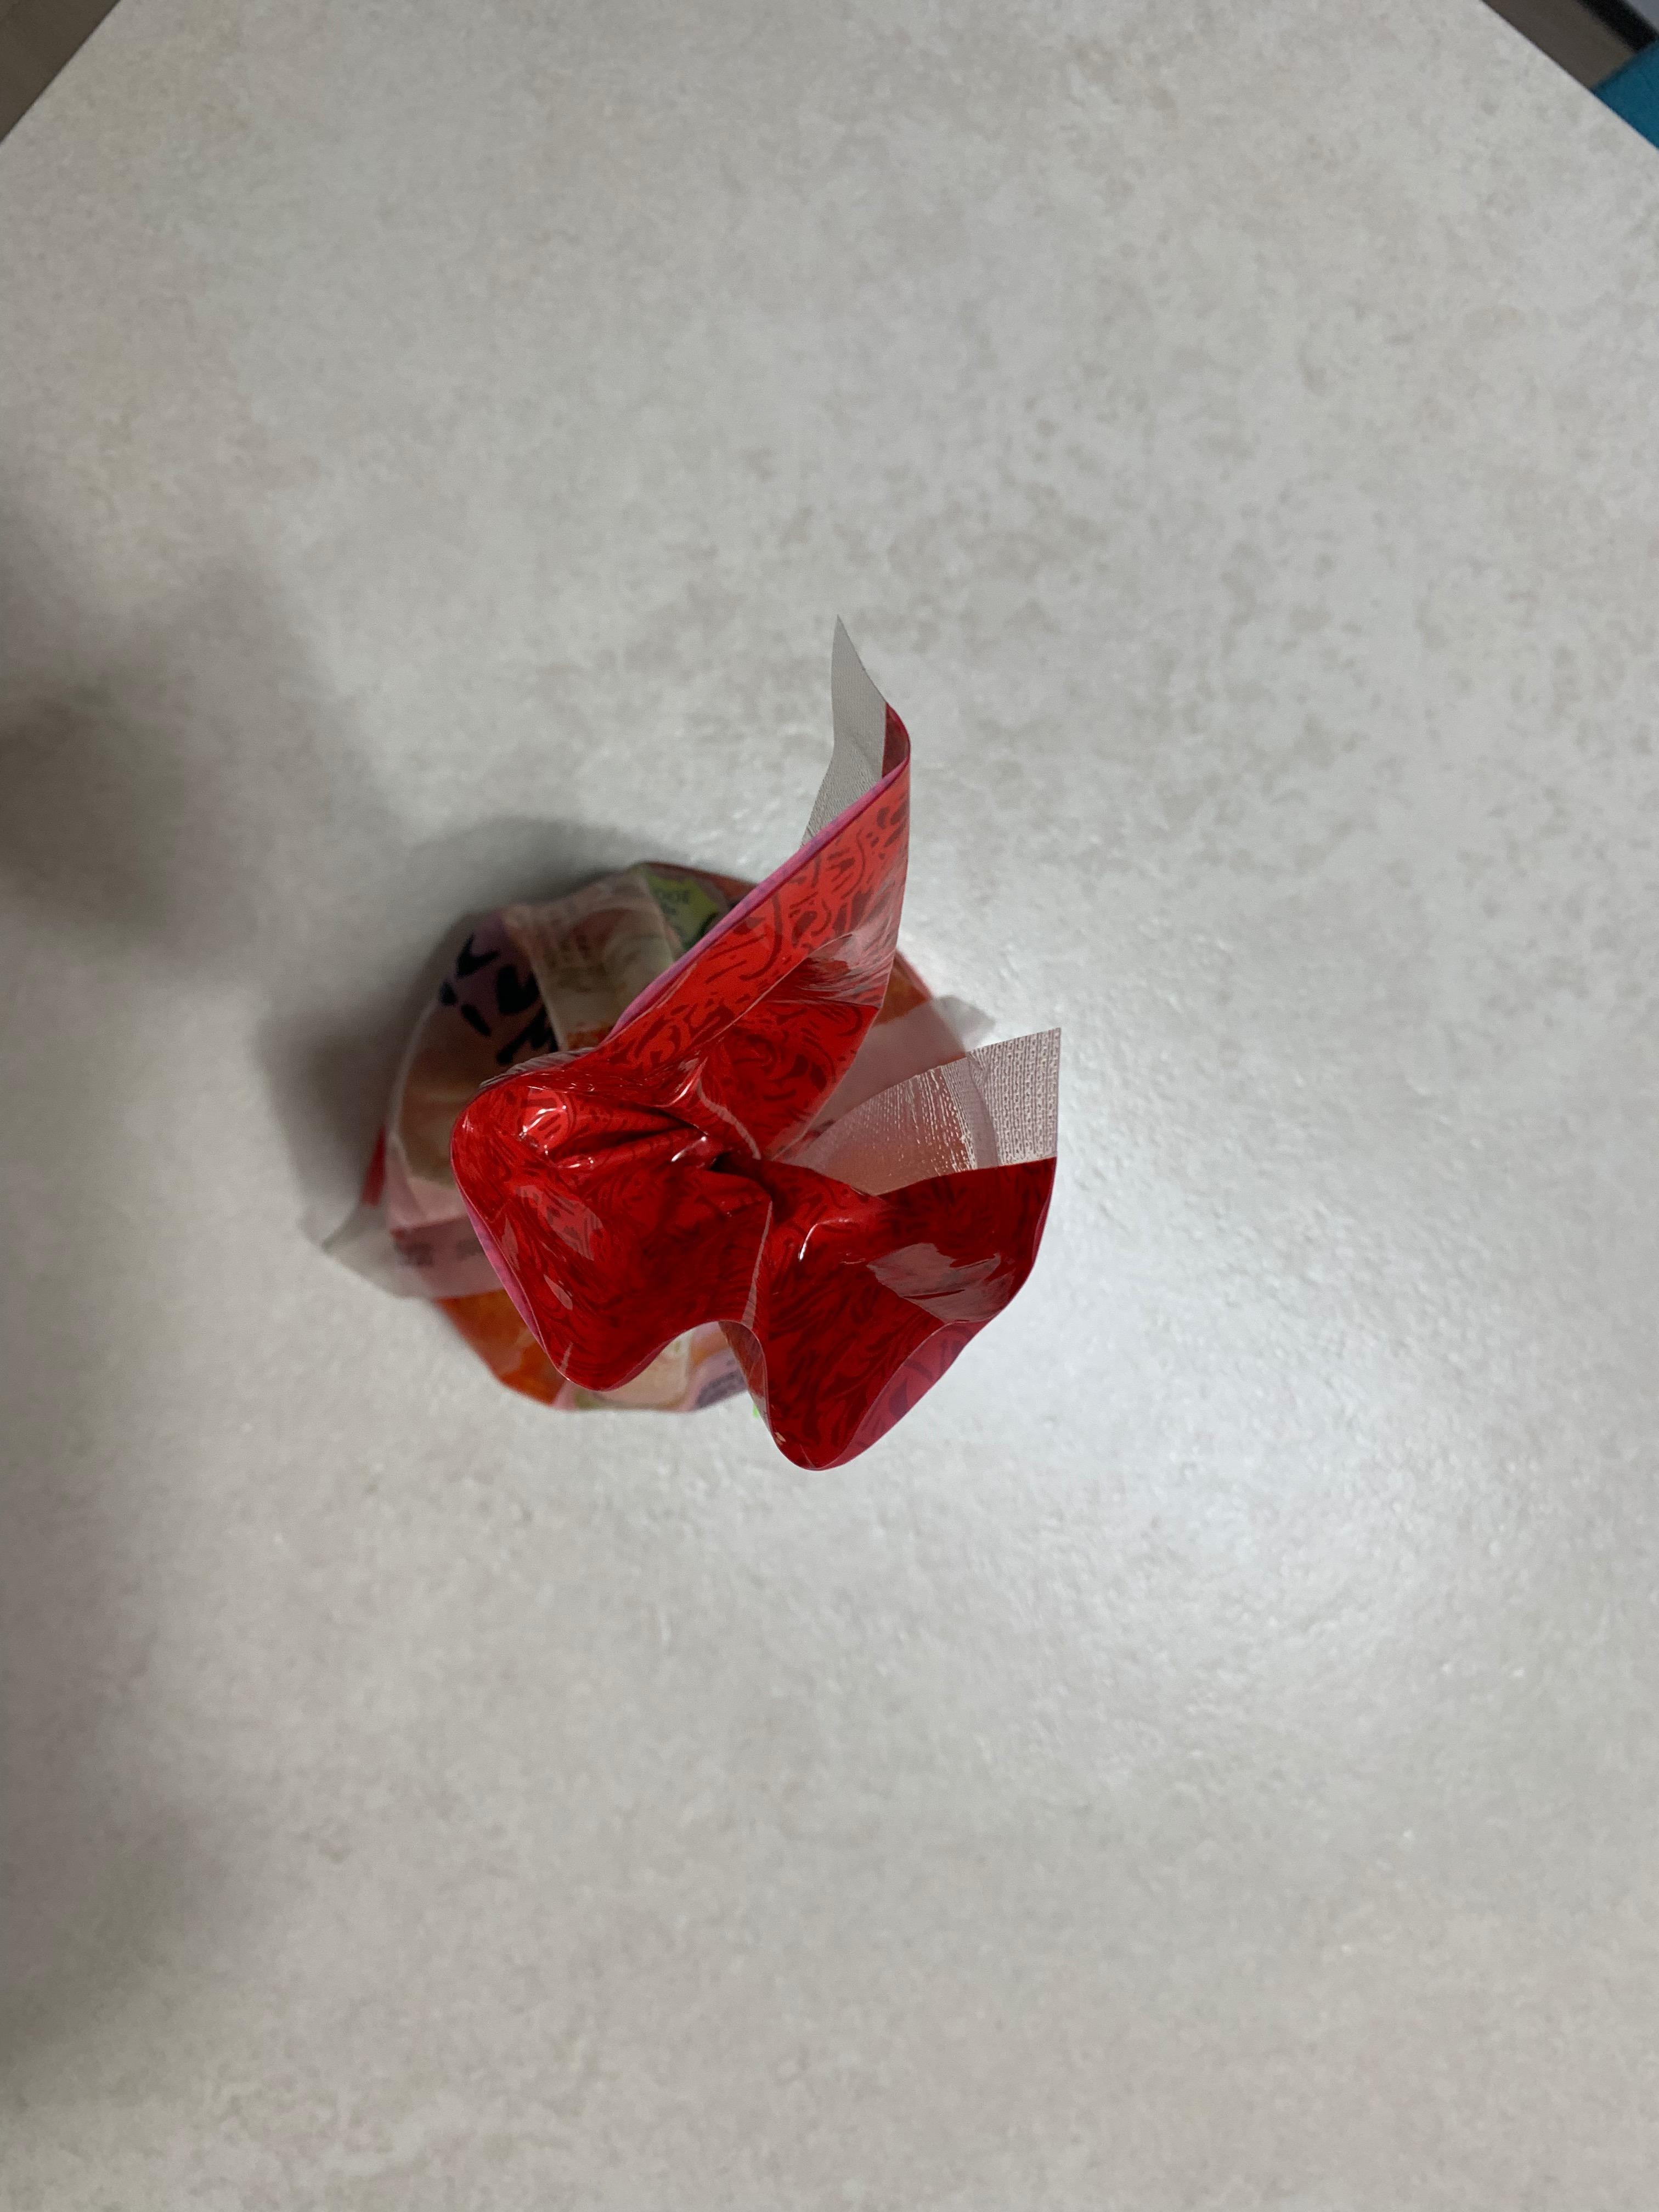kimchi: (317, 624, 1065, 1482)
